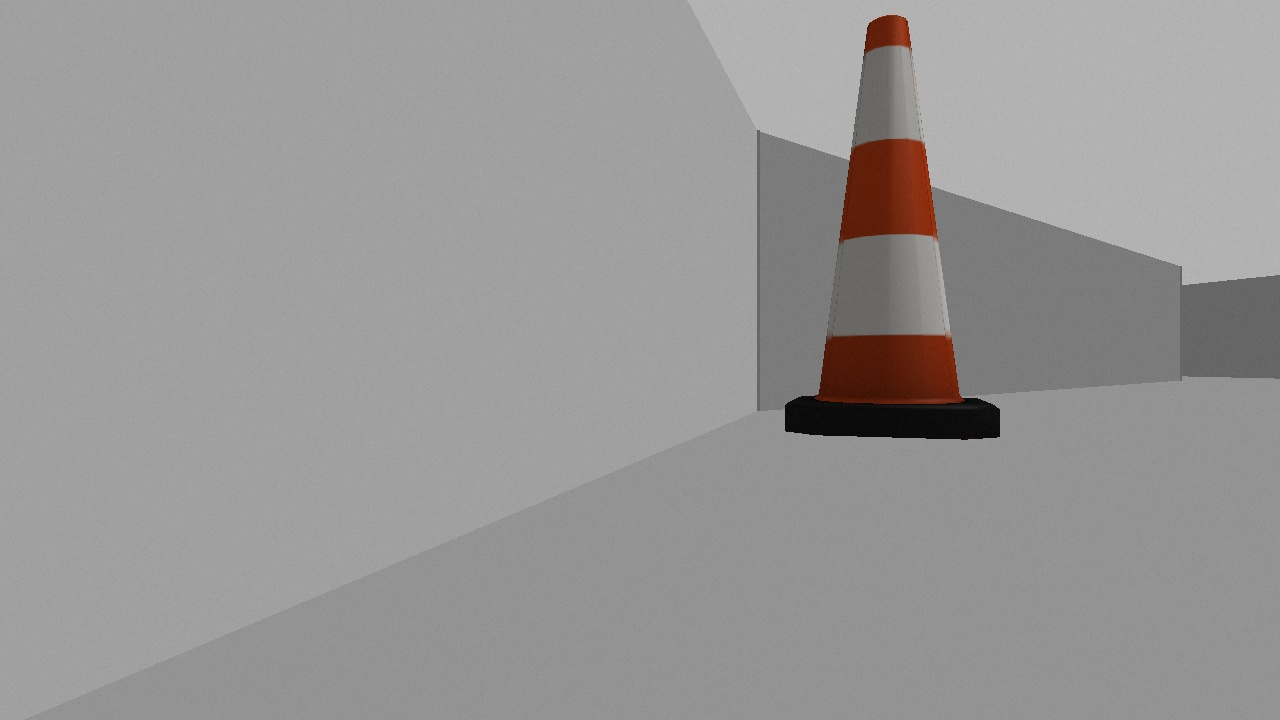barricade: (760, 8, 1013, 453)
